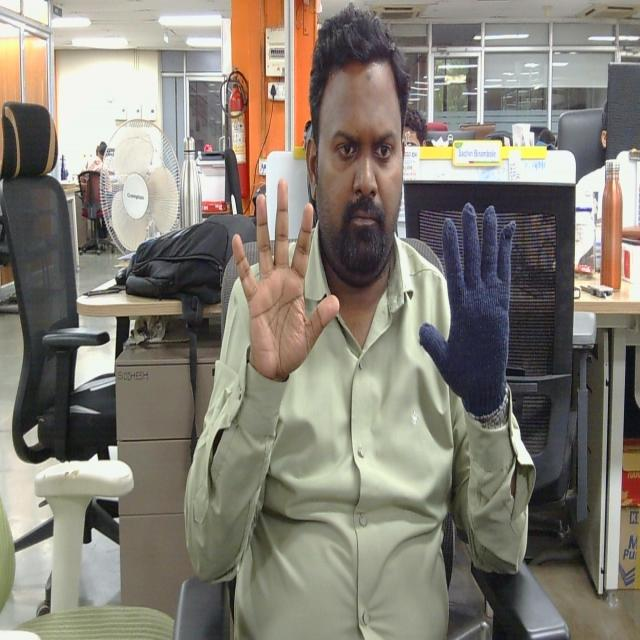Gloves-Detection: (419, 202, 518, 415)
